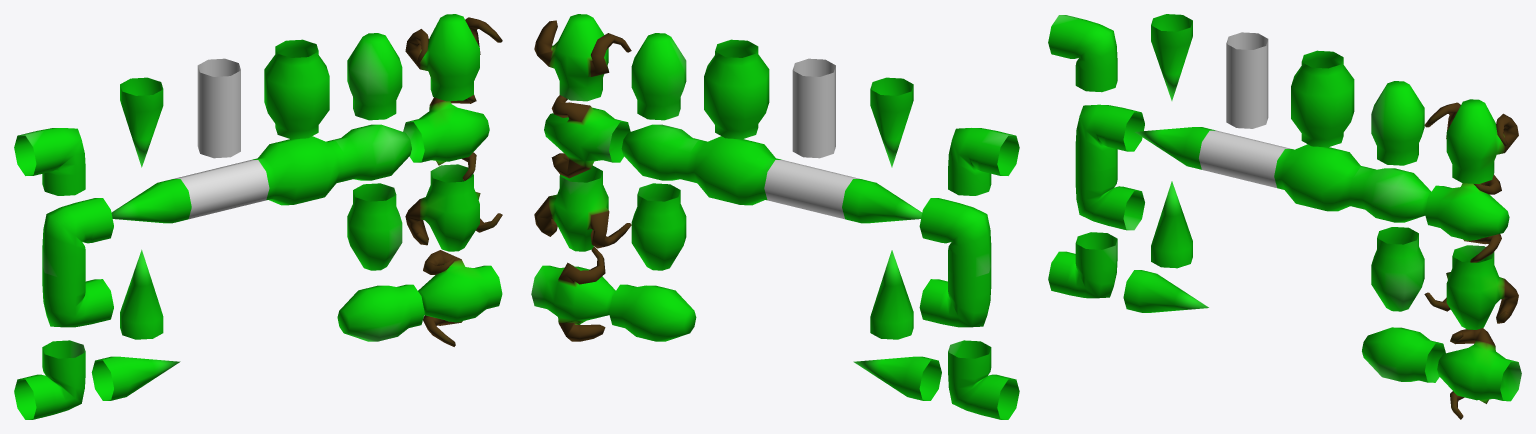
The model's file is snake_parts.fbx.
3 views of the same model, side by side, from view 1: azimuth 30°, elevation 25°; view 2: azimuth 150°, elevation 25°; view 3: azimuth 330°, elevation 25° (orthographic). The views are drawn at different scales.
Parts seen in each view (by area): view 1: Cylinder.003, Cylinder.004, Cylinder.019, Cylinder.017, Cylinder.013, Cylinder.015, Cylinder, Cylinder.009, Cylinder.011, Cylinder.016, Cylinder.002, Cylinder.005 (+8 smaller); view 2: Cylinder.003, Cylinder.004, Cylinder.013, Cylinder.019, Cylinder.017, Cylinder.015, Cylinder, Cylinder.011, Cylinder.009, Cylinder.002, Cylinder.016, Cylinder.018 (+8 smaller); view 3: Cylinder.003, Cylinder.004, Cylinder.019, Cylinder.013, Cylinder.017, Cylinder.015, Cylinder, Cylinder.005, Cylinder.016, Cylinder.002, Cylinder.011, Cylinder.009 (+8 smaller).
Part boxes in pixels (x1,y1,x2,y2): Cylinder.003: (264,39,329,139); Cylinder.004: (405,14,502,101); Cylinder.019: (418,250,502,346); Cylinder.017: (405,164,502,251); Cylinder.013: (252,136,346,205); Cylinder.015: (403,95,489,180); Cylinder: (197,58,240,158); Cylinder.009: (42,198,113,277); Cylinder.011: (14,340,85,419); Cylinder.016: (347,183,402,270); Cylinder.002: (347,33,402,120); Cylinder.005: (14,128,85,195); Cylinder.003: (704,39,769,139); Cylinder.004: (534,14,631,101); Cylinder.013: (686,136,781,205); Cylinder.019: (531,246,615,341); Cylinder.017: (534,165,631,251); Cylinder.015: (544,95,630,178); Cylinder: (792,58,835,158); Cylinder.011: (948,340,1019,419); Cylinder.009: (919,198,991,277); Cylinder.002: (631,33,686,120); Cylinder.016: (631,183,686,270); Cylinder.018: (609,284,696,341); Cylinder.003: (1291,50,1354,147); Cylinder.004: (1424,99,1518,183); Cylinder.019: (1437,328,1521,419); Cylinder.013: (1274,144,1367,211); Cylinder.017: (1424,245,1518,329); Cylinder.015: (1425,175,1509,262); Cylinder: (1226,32,1268,128); Cylinder.005: (1048,15,1117,92); Cylinder.016: (1371,227,1424,311); Cylinder.002: (1371,81,1424,165); Cylinder.011: (1048,232,1117,298); Cylinder.009: (1075,104,1144,170).
Bounding box in the file's own units: 605 × 405 × 75.43.
